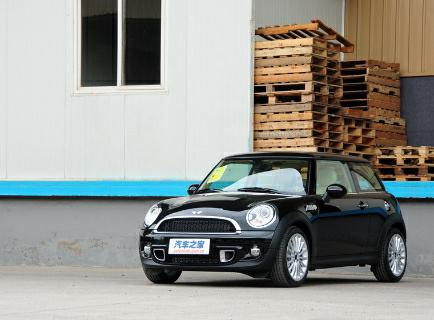MINI: (136, 152, 412, 287)
